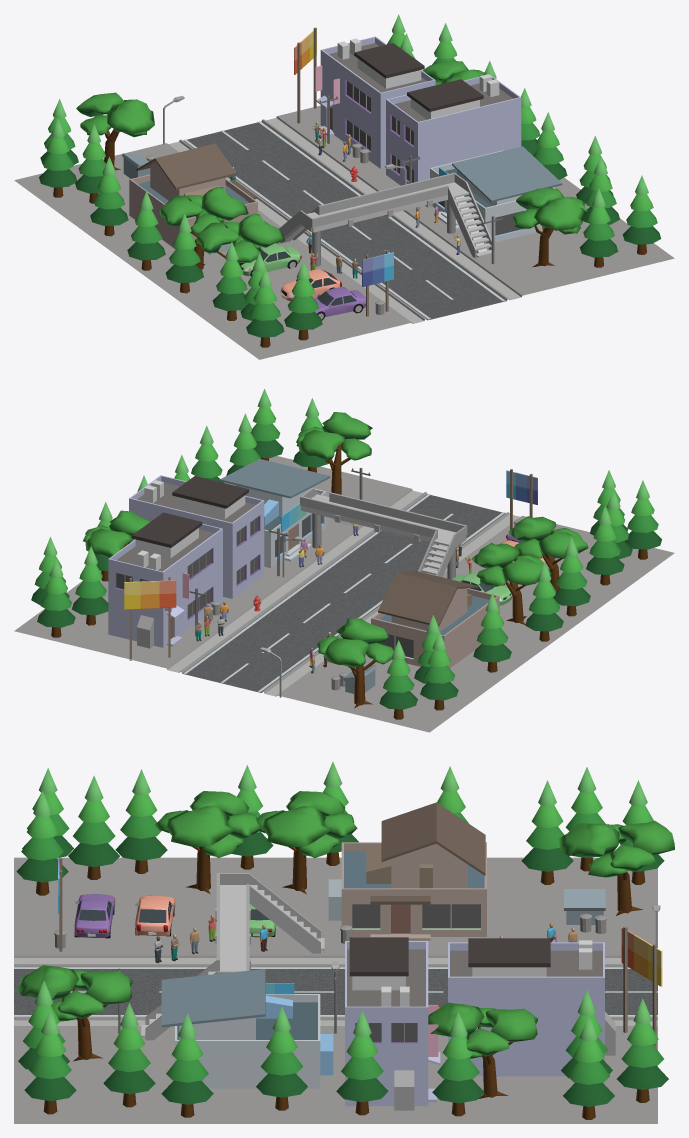
File: SM_Block_BG_D.fbx
The picture shows the model from 3 angles, top to bottom: view 1: azimuth 30°, elevation 25°; view 2: azimuth 150°, elevation 25°; view 3: azimuth 270°, elevation 25°; orthographic projection. The views are drawn at different scales.
Parts seen in each view (by area): view 1: SM_Block_BG_D; view 2: SM_Block_BG_D; view 3: SM_Block_BG_D.
Boxes of the visible parts, bbox=[...] form: SM_Block_BG_D: bbox=[14, 14, 674, 359]; SM_Block_BG_D: bbox=[14, 389, 674, 732]; SM_Block_BG_D: bbox=[14, 762, 674, 1123].
Bounding box in the file's own units: 3043 × 605 × 3080.
